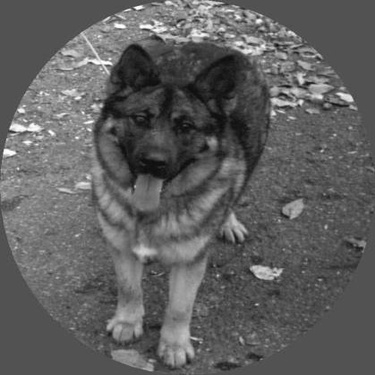dog: (60, 24, 276, 370)
